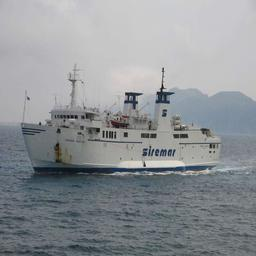Ship: (20, 70, 228, 175)
